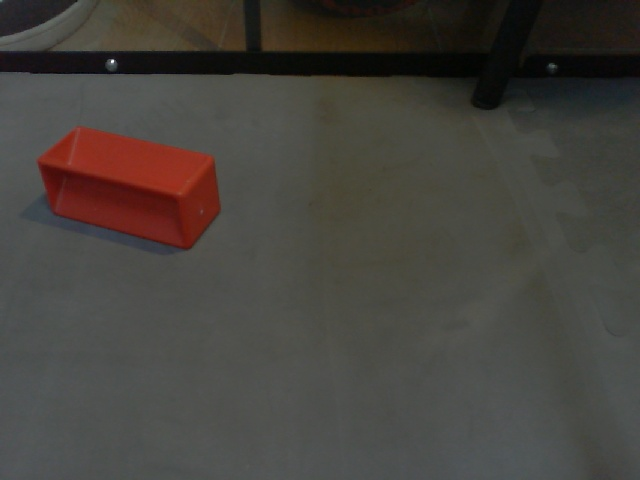RedSample: (37, 123, 222, 250)
